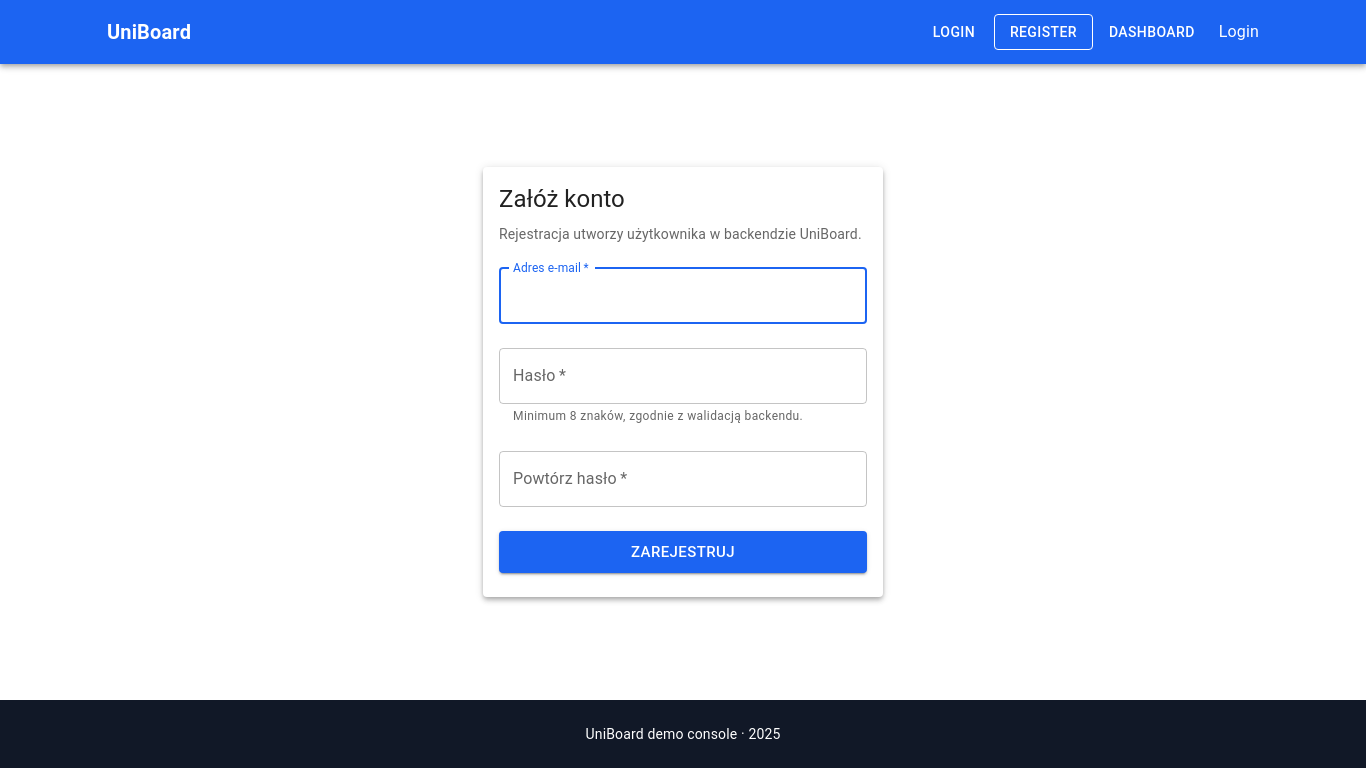
it: Registration flow › shows validation error for mismatched passwords
Type "mismatch@example.com" into the field labelled "Adres e-mail *".
click(683, 296); type("mismatch@example.com")  # box [499,268,867,324]
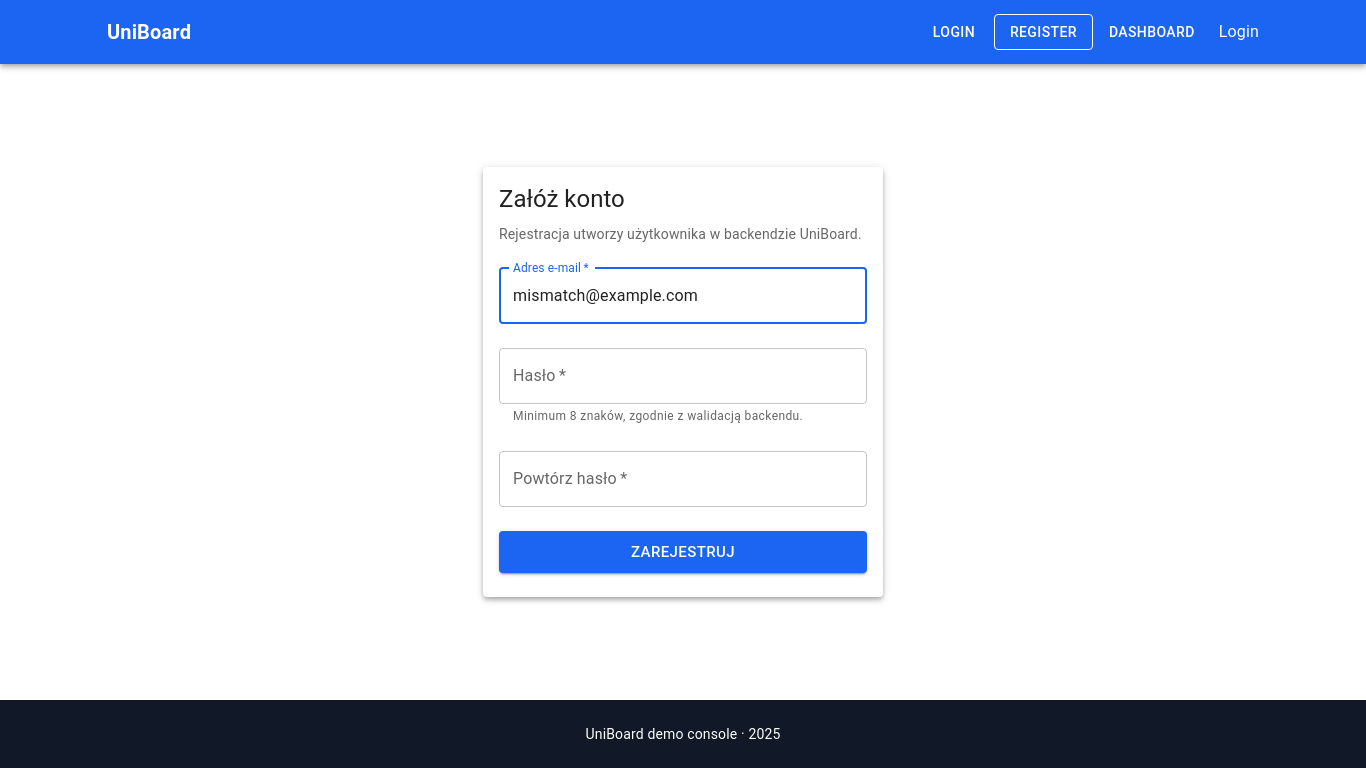
Type "Password!1" into the password field labelled "Hasło *".
click(683, 376); type("Password!1")  # box [499,348,867,404]
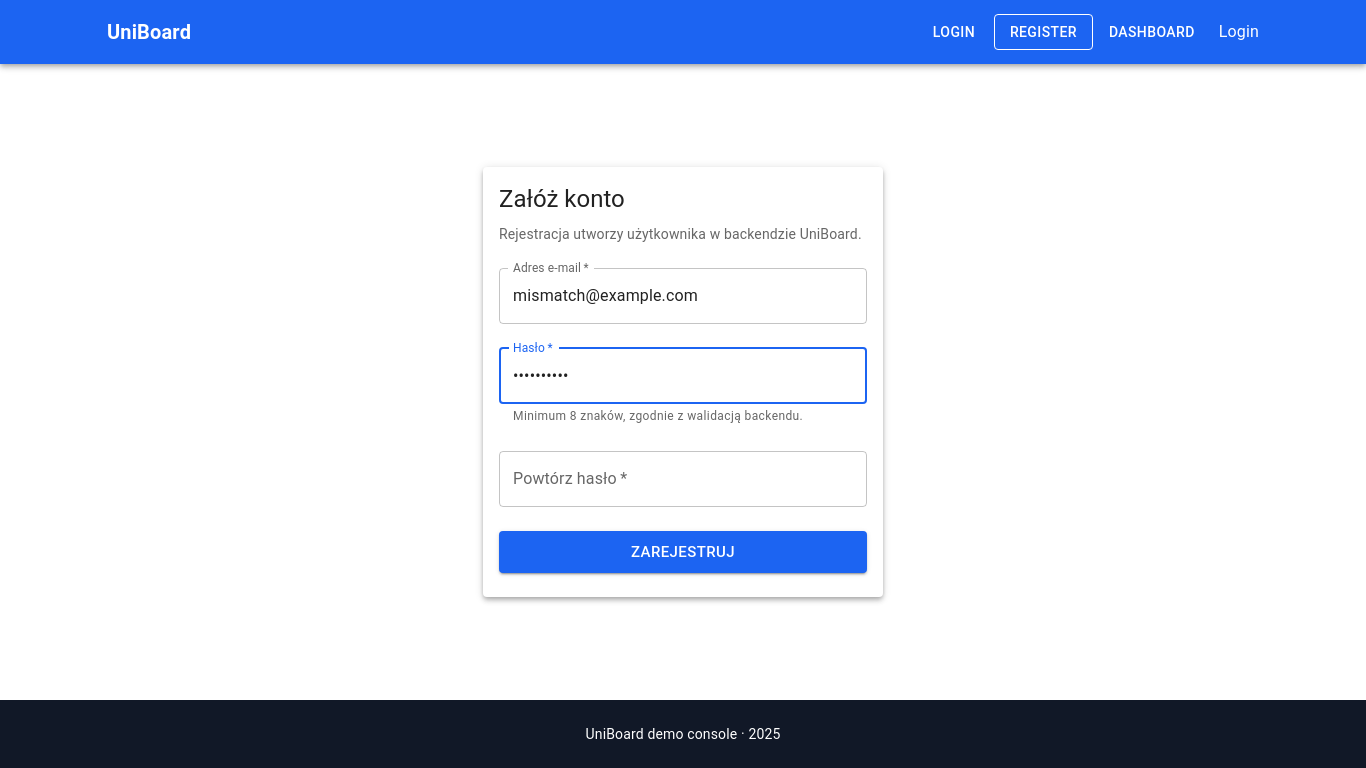
Type "Password!2" into the password field labelled "Powtórz hasło *".
click(683, 479); type("Password!2")  # box [499,451,867,507]
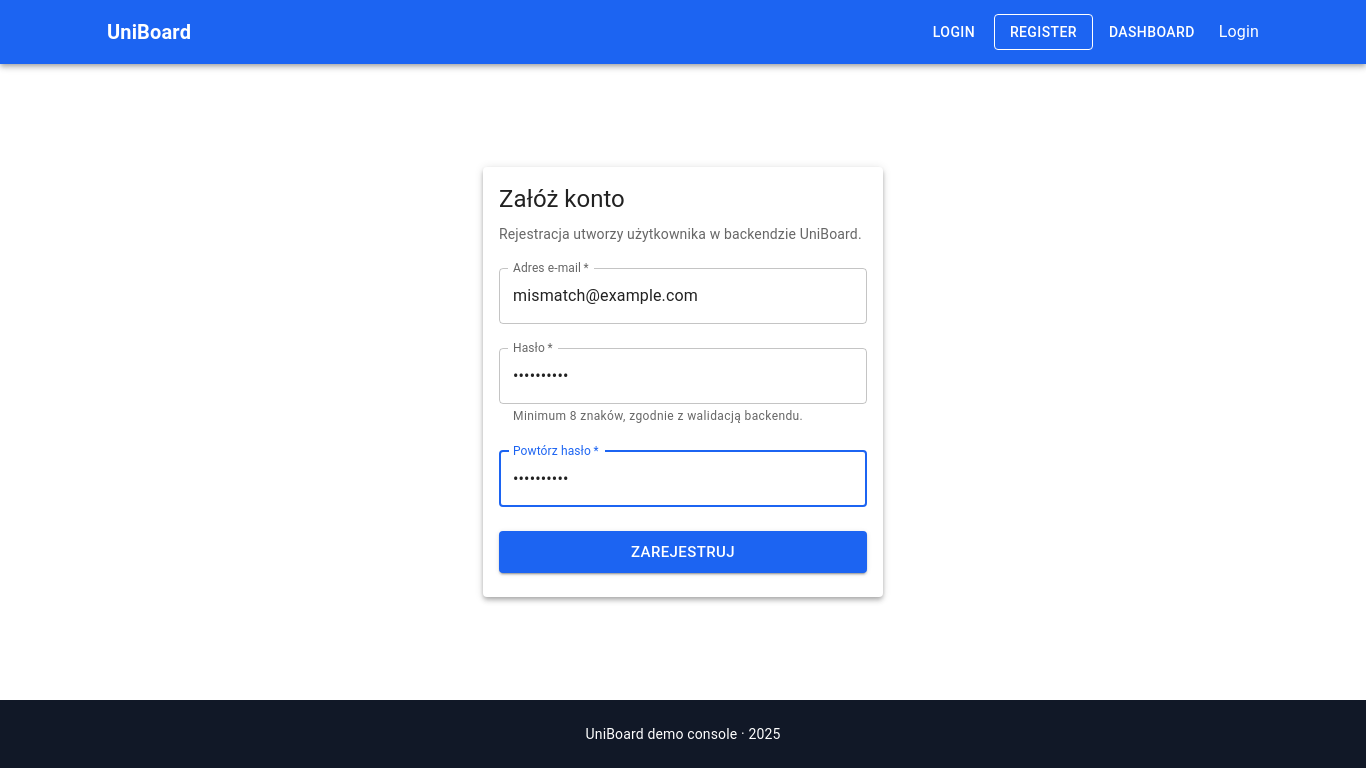
Click the button "Zarejestruj".
click(683, 552)  # box [499,531,867,573]
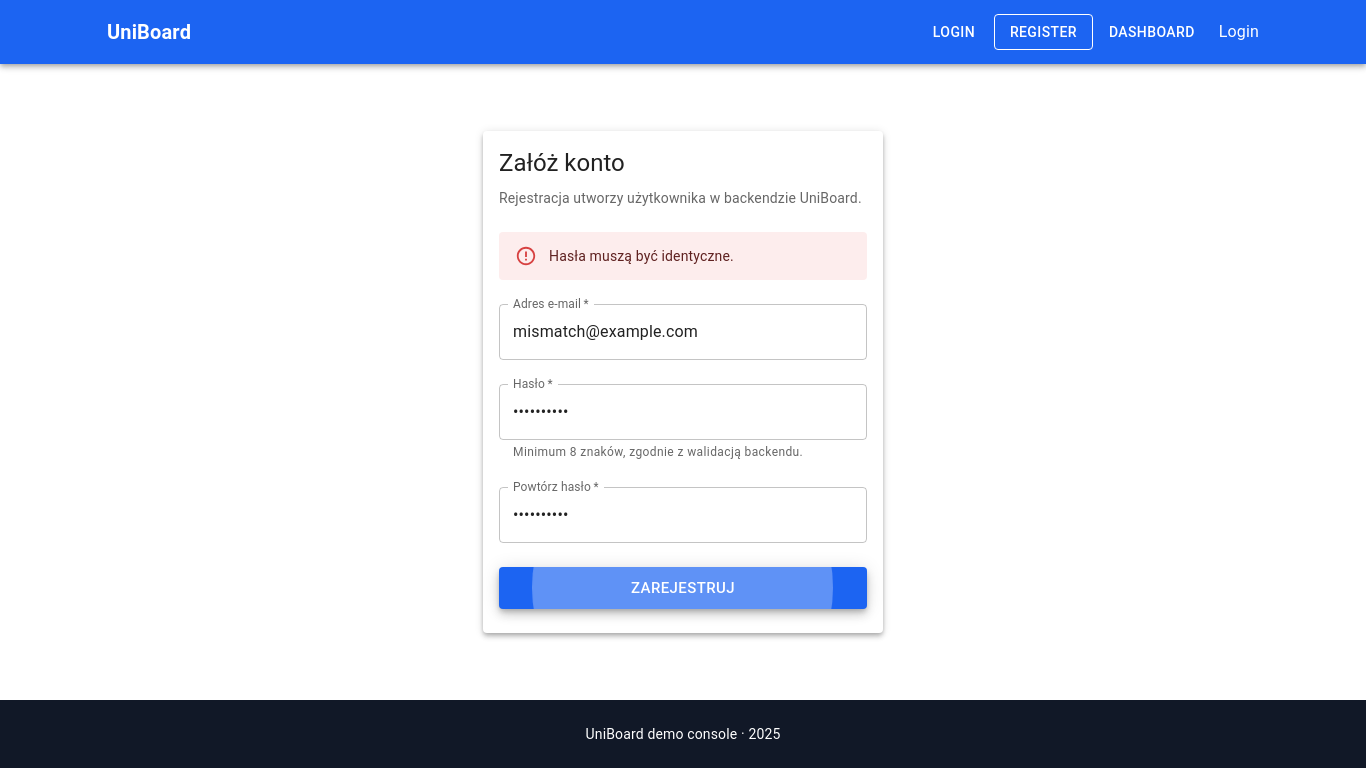
Expected: the text "Hasła muszą być identyczne." is shown, [549,248,734,264]
